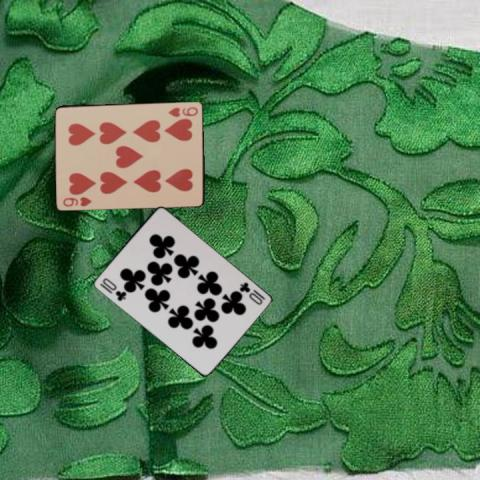10c: (97, 274, 127, 302), (236, 279, 266, 306)
9h: (60, 193, 94, 208), (166, 104, 199, 118)
